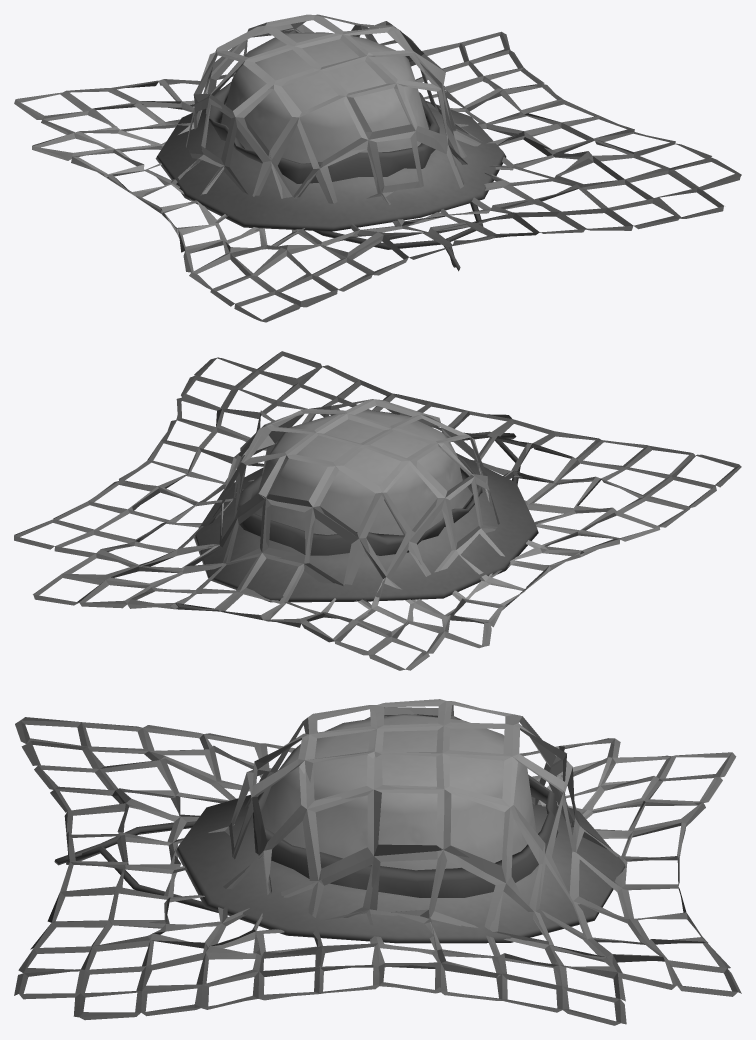
Rendered from BoonieHatNet_Ground.fbx.
3 renders of one model, top to bottom at view 1: azimuth 30°, elevation 25°; view 2: azimuth 150°, elevation 25°; view 3: azimuth 270°, elevation 25°, orthographic. The views are drawn at different scales.
Visible parts, largest first — view 1: CatBoonie; view 2: CatBoonie; view 3: CatBoonie.
Boxes of the visible parts, bbox=[...] form: CatBoonie: bbox=[14, 14, 741, 322]; CatBoonie: bbox=[14, 351, 741, 670]; CatBoonie: bbox=[14, 699, 741, 1025].
Size of the model in its own units: 92.31 by 20.52 by 93.1.
